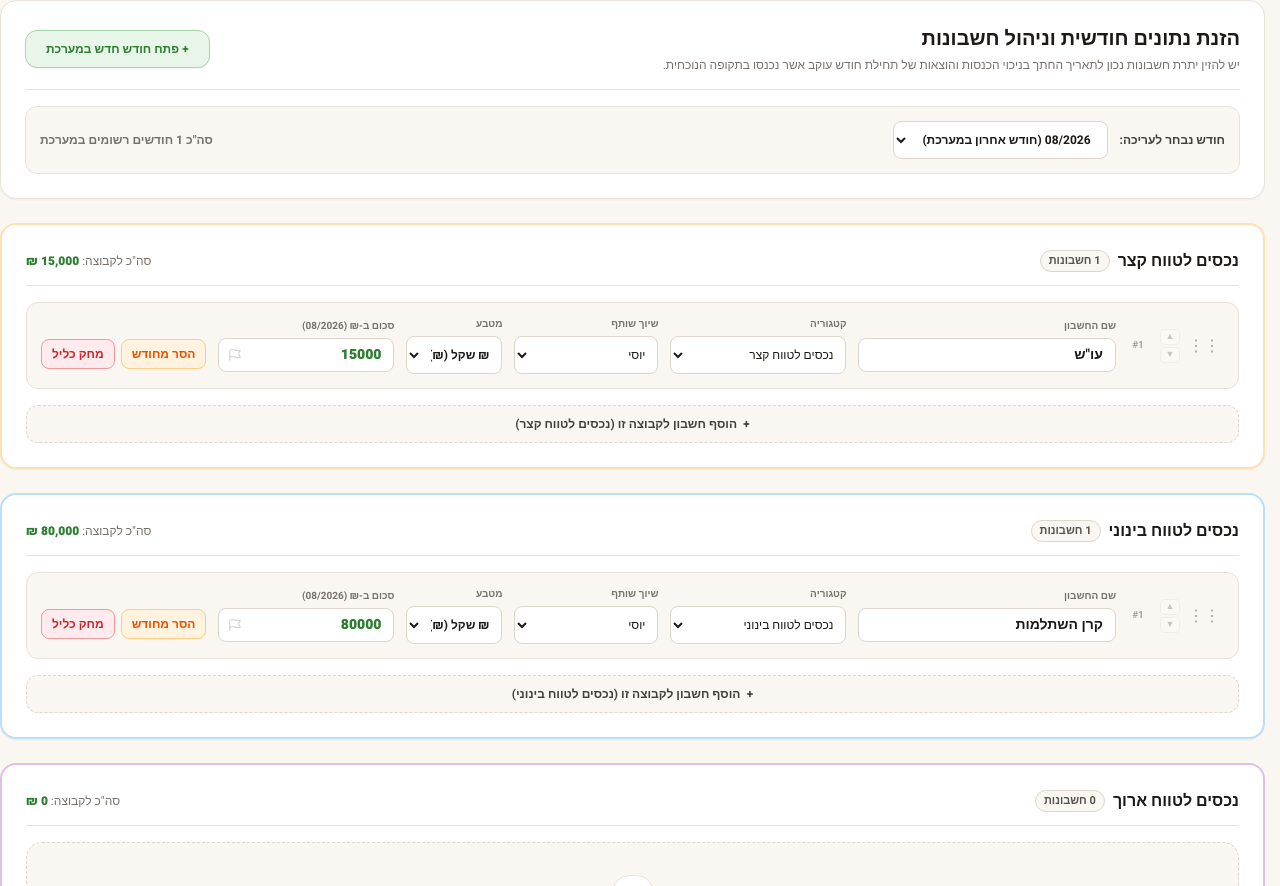
Test case: DataEntryModule Component › prompts with warning confirmation modal before deleting an account completely
// Find and click delete completely button for first account
Click the button titled "מחק חשבון כליל" below "15,000  ₪". click: (78, 354)
box: x1=41 y1=338 x2=115 y2=368
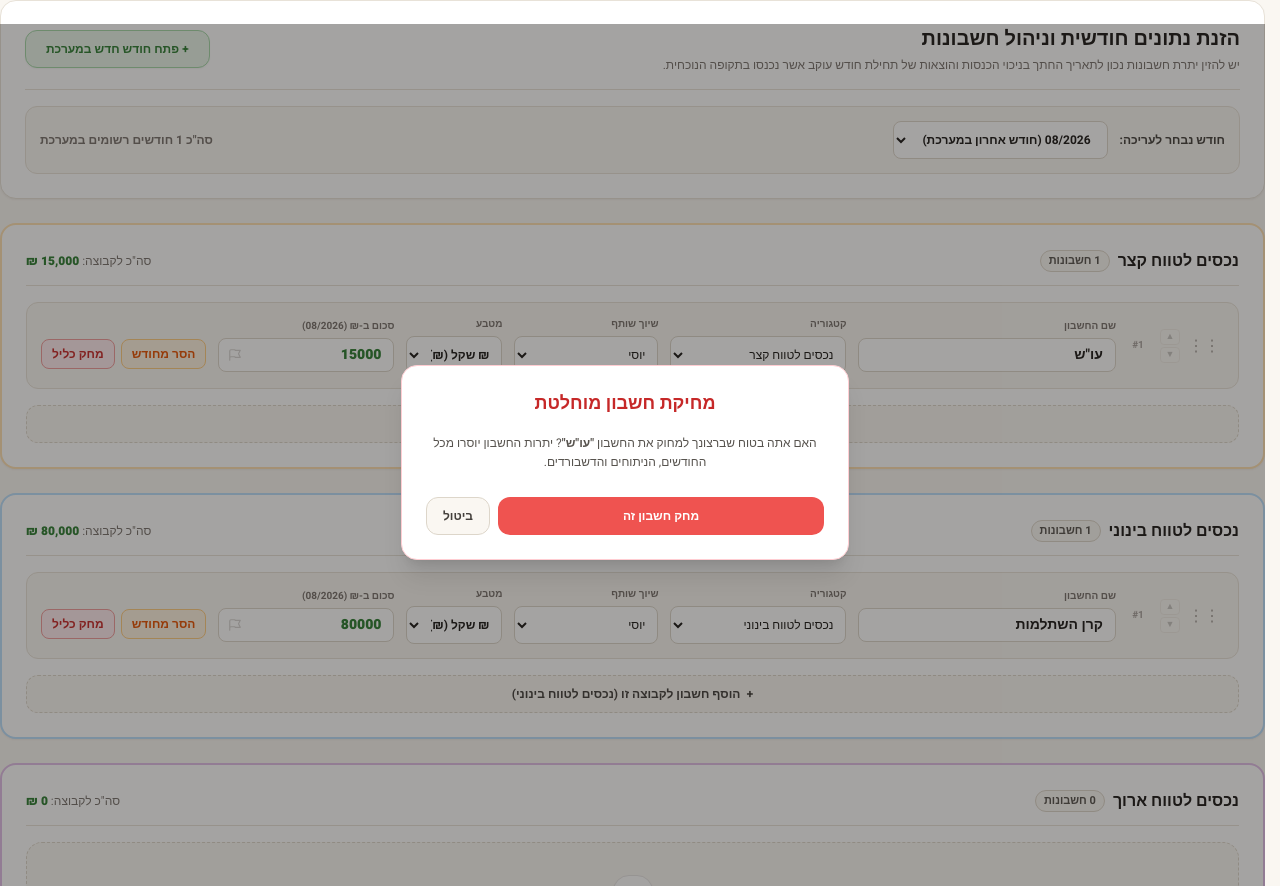
Expected: the heading "מחיקת חשבון מוחלטת" is shown, x1=534 y1=390 x2=716 y2=416
Expected: the text "האם אתה בטוח שברצונך למחוק את החשבון" is shown, x1=594 y1=434 x2=817 y2=452
Expected: the text "יתרות החשבון יוסרו מכל החודשים" is shown, x1=433 y1=434 x2=706 y2=471
// Cancel deletion
Click the button "ביטול". click: (458, 516)
box: x1=426 y1=496 x2=490 y2=534
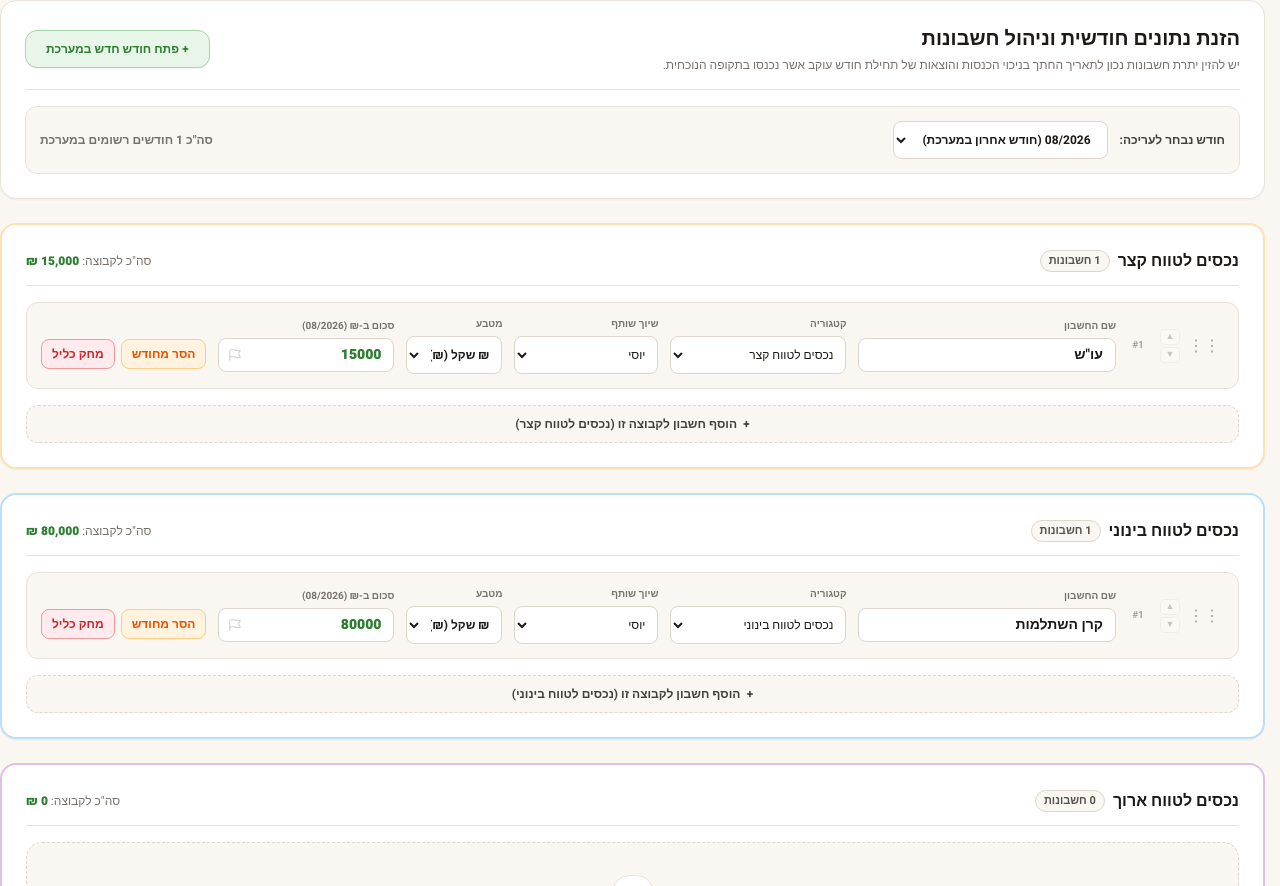
Expected: the heading "מחיקת חשבון מוחלטת" is gone
// Click delete again and confirm
Click the button titled "מחק חשבון כליל" below "15,000  ₪". click: (78, 354)
box: x1=41 y1=338 x2=115 y2=368
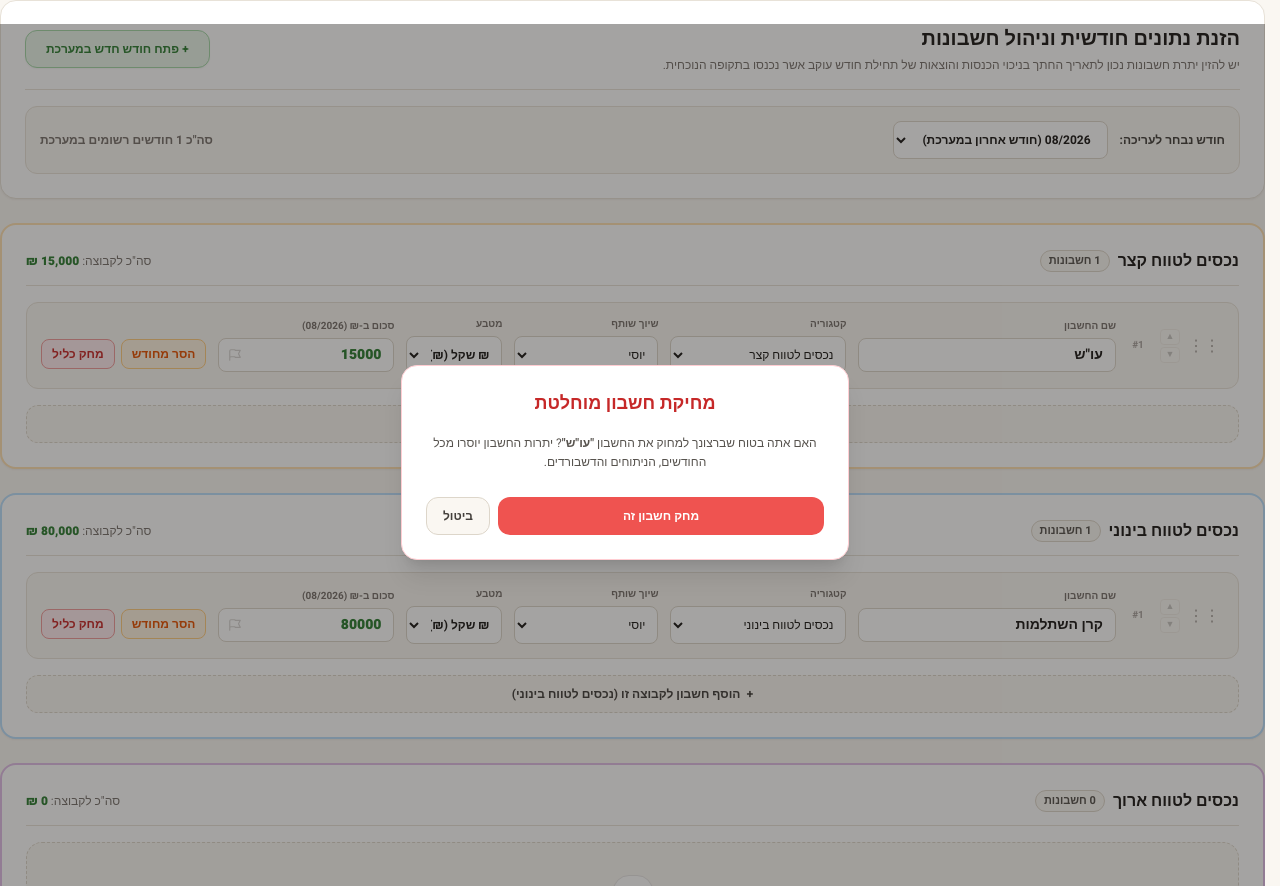
Click the button "מחק חשבון זה". click: (661, 516)
box: x1=498 y1=496 x2=824 y2=534
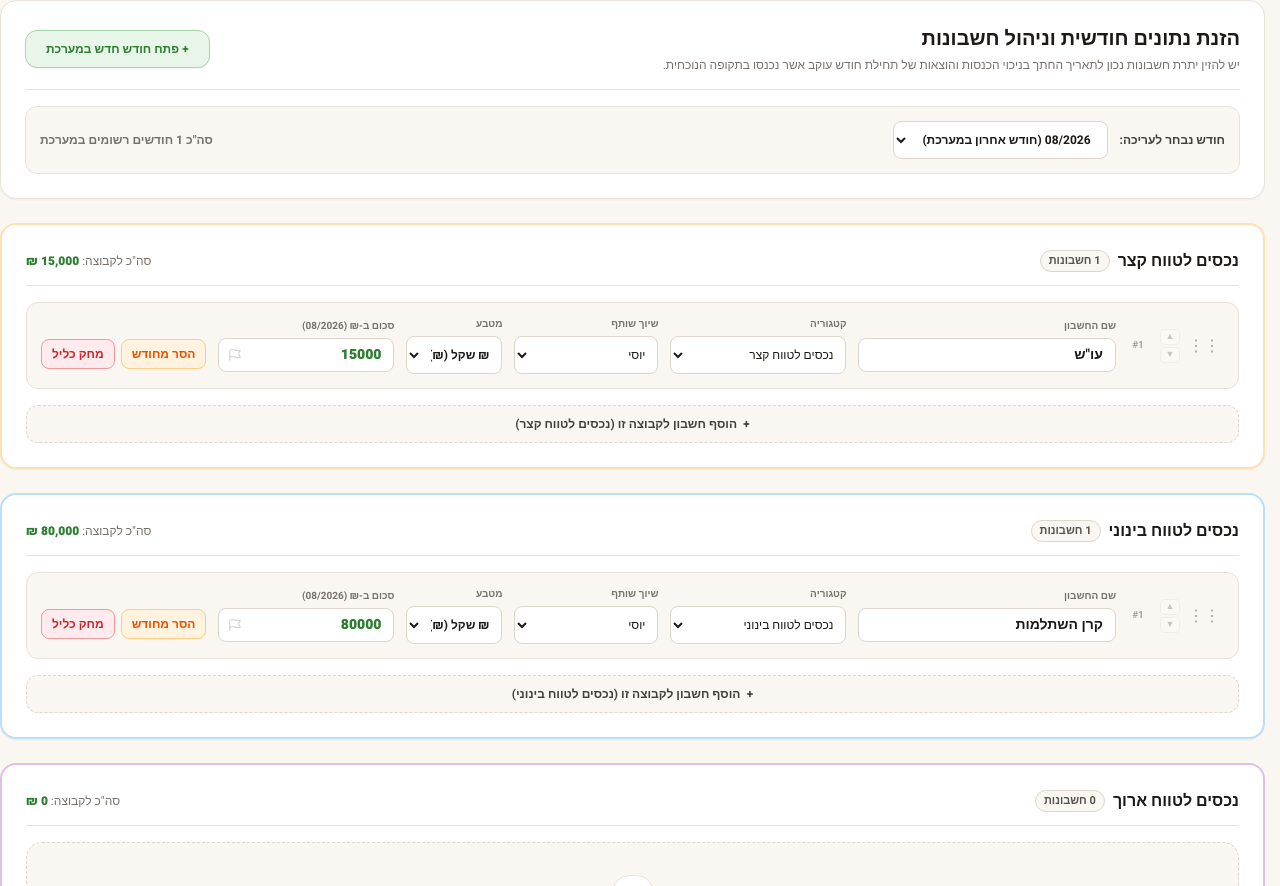
Expected: the heading "מחיקת חשבון מוחלטת" is gone
